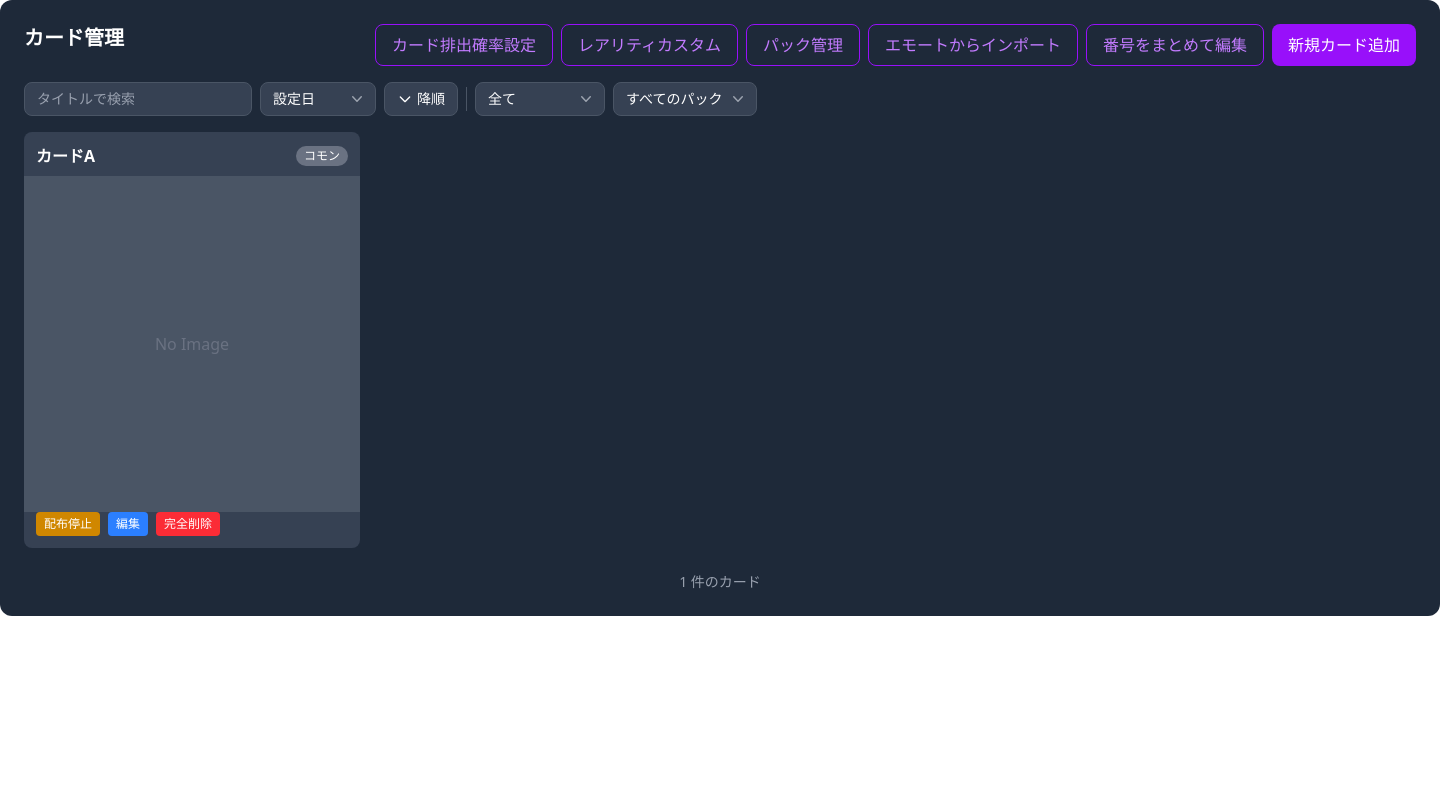
Test: CardManager maintenance integration › mode!=off のときは保存ボタンがdisableされ、案内文言が表示される（事前disable）
Click the button "新規カード追加". click: (1344, 45)
box: x1=1272 y1=24 x2=1416 y2=66
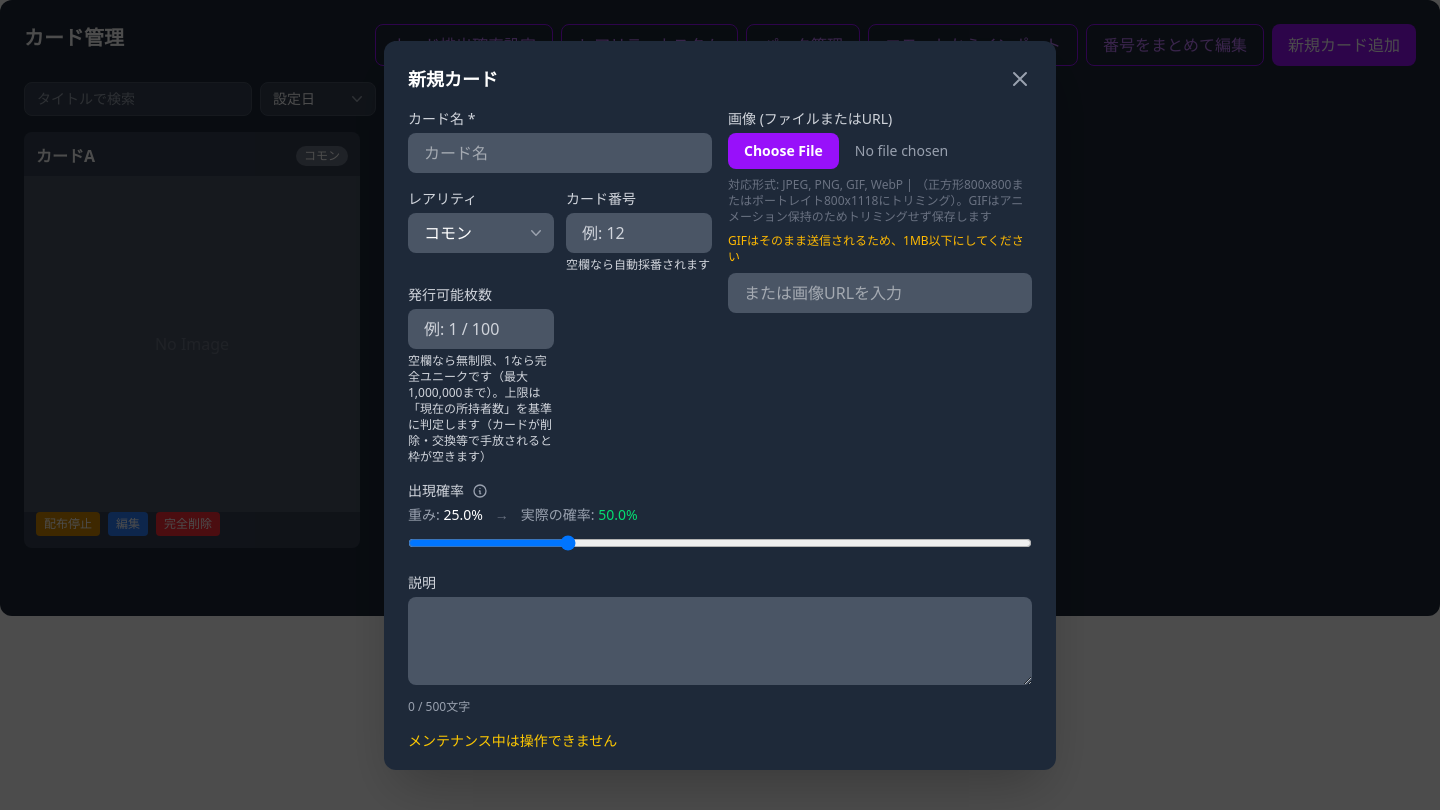
Check: the text "メンテナンス中は操作できません" is shown, box x1=408 y1=730 x2=617 y2=750
